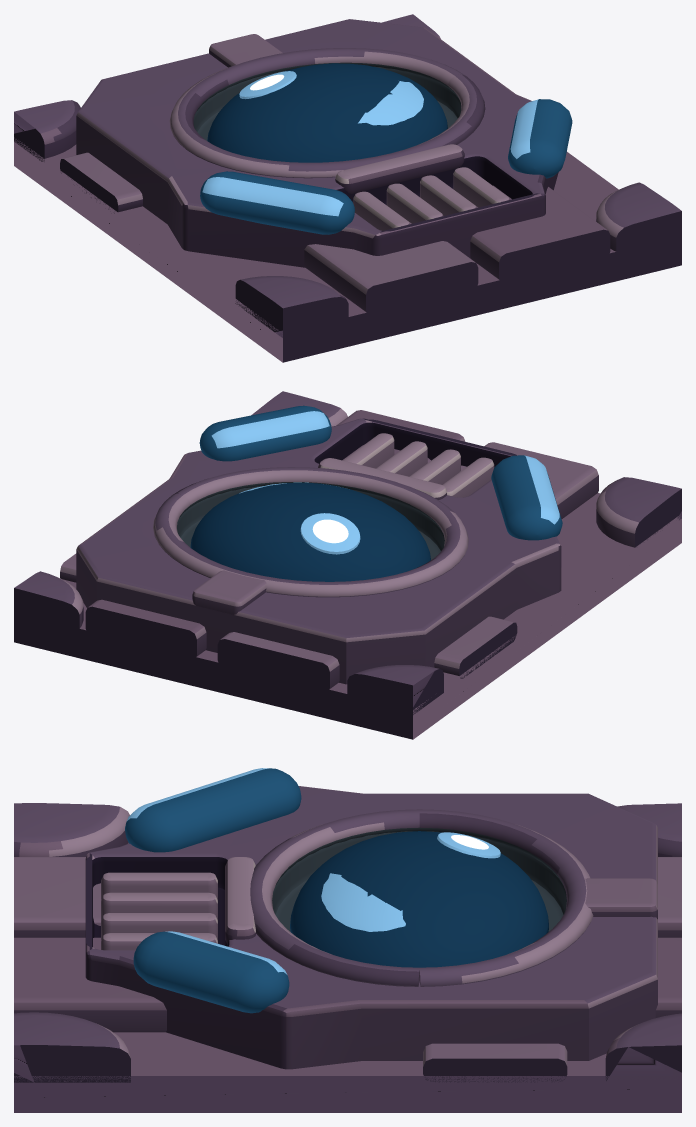
File: eye_block.glb
3 renders of one model, top to bottom at view 1: azimuth 30°, elevation 25°; view 2: azimuth 150°, elevation 25°; view 3: azimuth 270°, elevation 25°, orthographic. The views are drawn at different scales.
Parts seen in each view (by area): view 1: housing.001, floor.001, eye.001, bezel.001, block_b2.001, block_a3.001, capsule0.001, boss2.001, boss3.001, capsule1.001, lip.001, boss0.001 (+7 smaller); view 2: housing.001, floor.001, eye.001, bezel.001, capsule1.001, block_b0.001, block_a1.001, capsule0.001, boss2.001, boss0.001, boss1.001, tongue0.001 (+11 smaller); view 3: housing.001, floor.001, eye.001, bezel.001, block_a3.001, capsule0.001, capsule1.001, boss3.001, block_b2.001, boss2.001, tongue1.001, boss1.001 (+10 smaller).
Boxes of the visible parts, x1,y1,x2,y2 form: housing.001: [76, 19, 558, 267]; floor.001: [14, 137, 681, 362]; eye.001: [207, 63, 447, 162]; bezel.001: [169, 48, 485, 178]; block_b2.001: [304, 222, 478, 316]; block_a3.001: [470, 185, 610, 283]; capsule0.001: [200, 171, 354, 234]; boss2.001: [235, 276, 348, 338]; boss3.001: [596, 182, 681, 256]; capsule1.001: [508, 99, 572, 178]; lip.001: [335, 144, 464, 193]; boss0.001: [14, 100, 80, 161]; housing.001: [76, 418, 561, 684]; floor.001: [14, 493, 681, 739]; eye.001: [190, 482, 430, 581]; bezel.001: [153, 467, 468, 597]; capsule1.001: [199, 405, 331, 461]; block_b0.001: [217, 632, 339, 693]; block_a1.001: [85, 599, 206, 660]; capsule0.001: [491, 455, 562, 540]; boss2.001: [596, 477, 681, 547]; boss0.001: [347, 665, 443, 715]; boss1.001: [14, 571, 83, 633]; tongue0.001: [434, 616, 517, 678]; housing.001: [85, 786, 657, 1069]; floor.001: [14, 843, 681, 1112]; eye.001: [290, 831, 548, 967]; bezel.001: [250, 809, 593, 986]; block_a3.001: [14, 937, 166, 1032]; capsule0.001: [125, 768, 301, 852]; capsule1.001: [133, 931, 289, 1013]; boss3.001: [14, 1012, 130, 1082]; block_b2.001: [14, 857, 100, 937]; boss2.001: [14, 803, 129, 856]; tongue1.001: [423, 1043, 567, 1082]; boss1.001: [605, 1013, 681, 1082].
Size of the model in its own units: 24 by 6.5 by 28.
